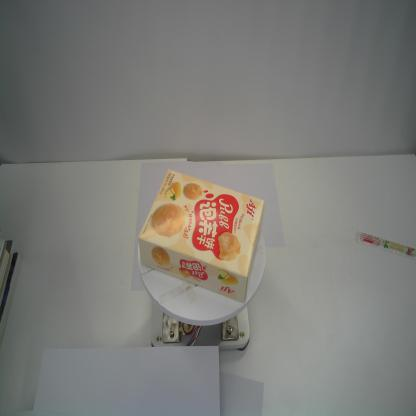Dessert: (138, 166, 265, 304)
